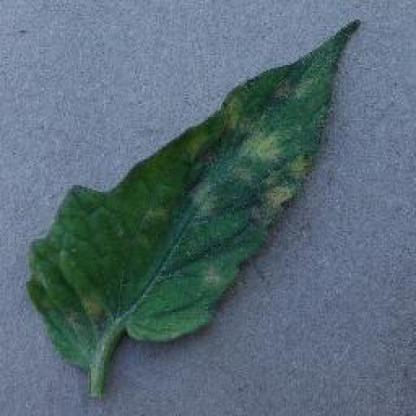Tomato_Leaf_Mold: (29, 18, 362, 372)
